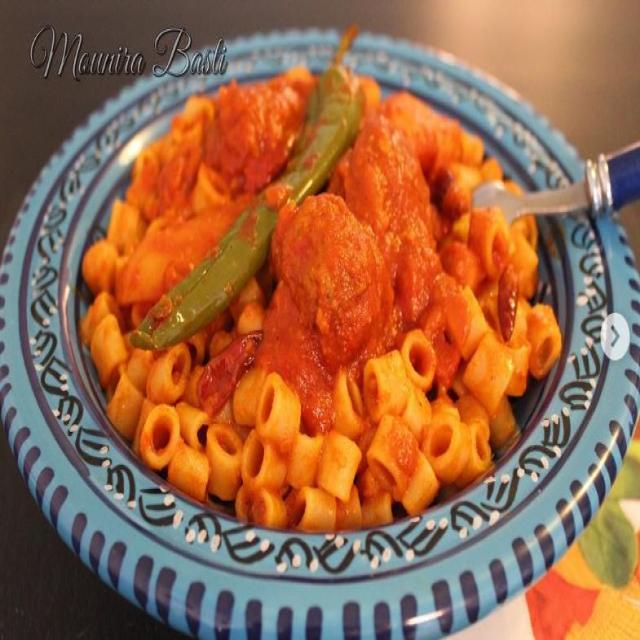Pasta: (70, 57, 596, 538)
